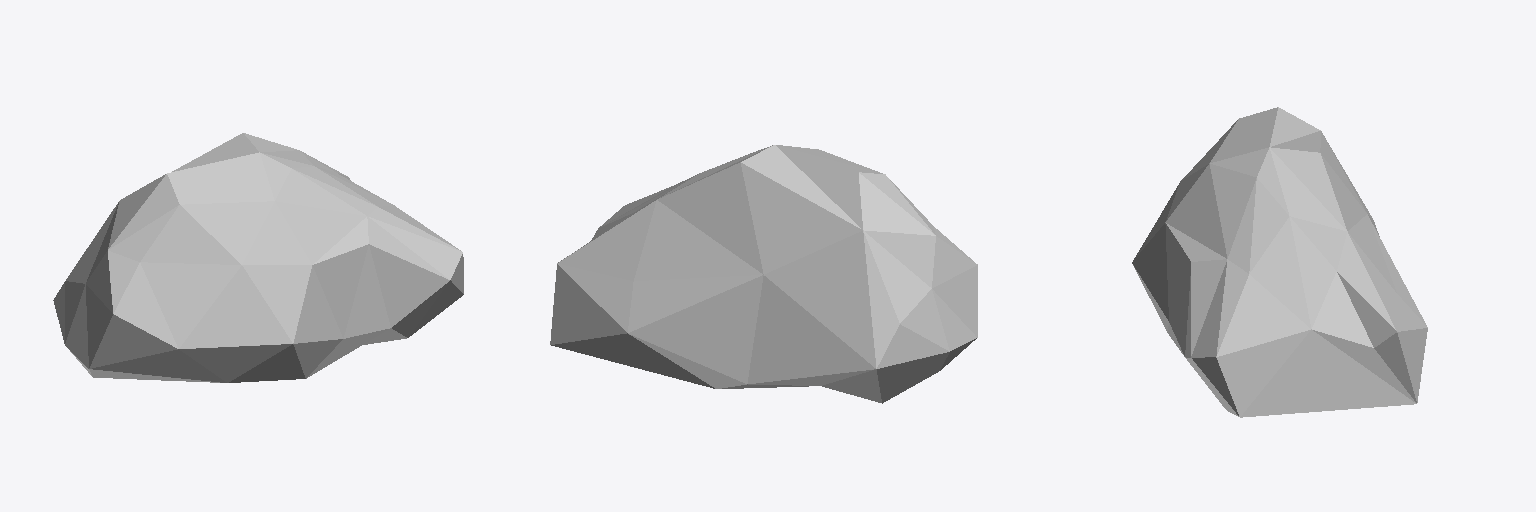
The model's file is rock2.obj.
The picture shows the model from 3 angles: view 1: azimuth 30°, elevation 25°; view 2: azimuth 150°, elevation 25°; view 3: azimuth 270°, elevation 25°; orthographic projection.
Parts seen in each view (by area): view 1: low_poly_rock_7; view 2: low_poly_rock_7; view 3: low_poly_rock_7.
Part boxes in pixels (x1,y1,x2,y2): low_poly_rock_7: (53,133,463,382); low_poly_rock_7: (550,145,977,403); low_poly_rock_7: (1132,107,1427,417).
Bounding box in the file's own units: 1.54 × 0.8459 × 1.05.